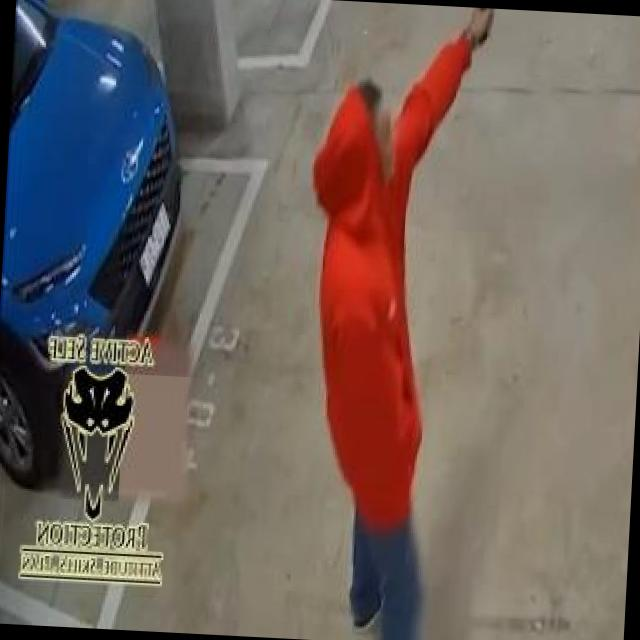Guns: (471, 8, 508, 46)
